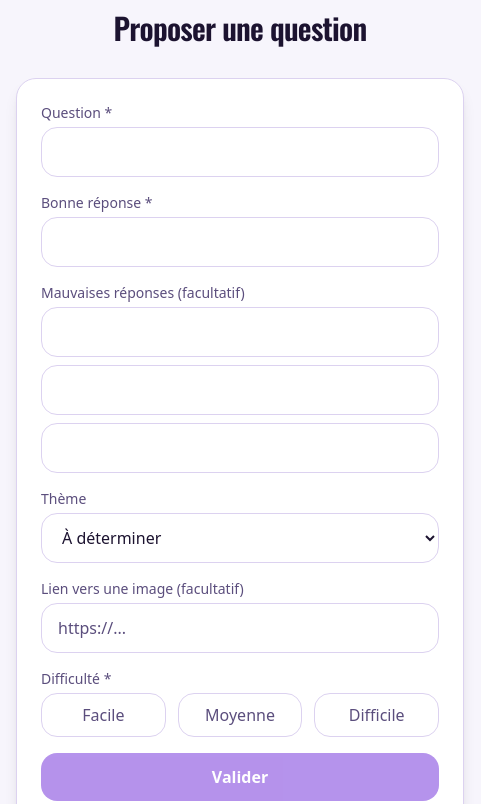
Scenario: Propositions › disables the submit button until question, correct answer and difficulty are filled
Expected: the button "Valider" is disabled, [41,753,439,801]
Type "Capitale de la France ?" into the field labelled "Question *" at (240, 152), box [41,127,439,177]
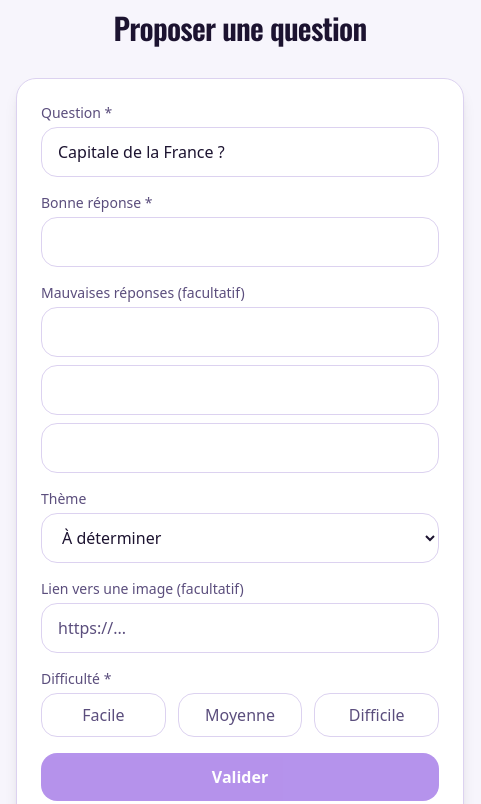
Type "Paris" into the field labelled "Bonne réponse *" at (240, 242), box [41,217,439,267]
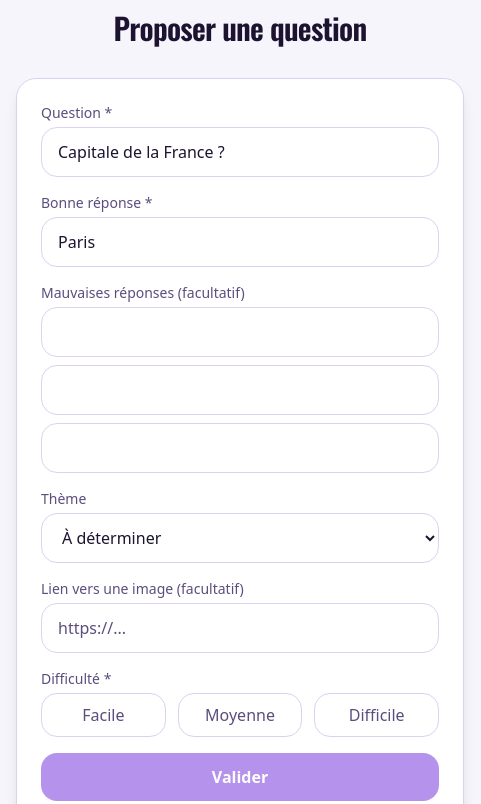
Expected: the button "Valider" is disabled, [41,753,439,801]
Click the button "Facile" at (103, 715), box [41,693,166,737]
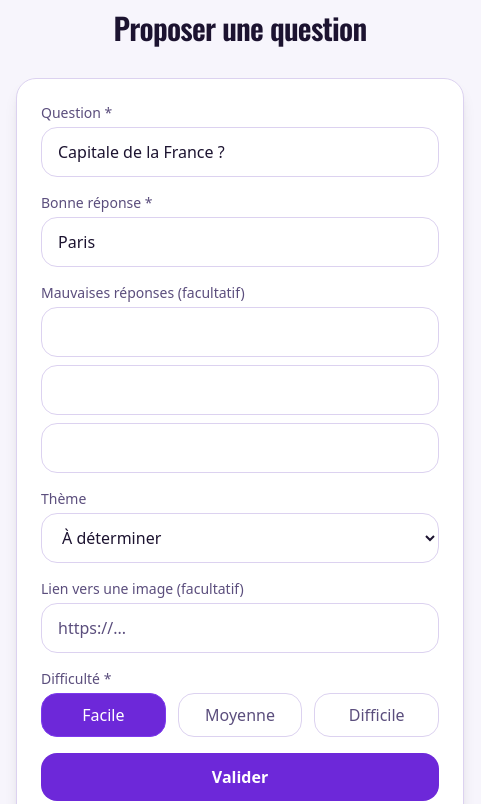
Result: the button "Valider" is enabled at [41,753,439,801]
